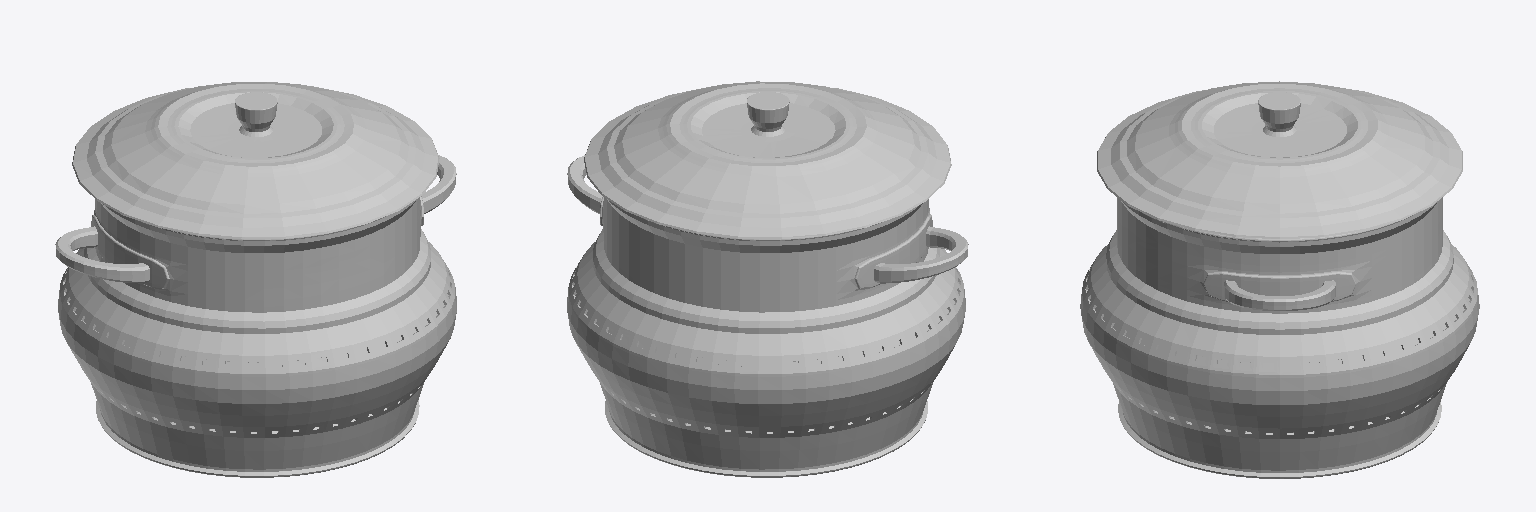
File: Pot.obj
3 renders of one model, left to right at view 1: azimuth 30°, elevation 25°; view 2: azimuth 150°, elevation 25°; view 3: azimuth 270°, elevation 25°, orthographic.
Visible parts, largest first — view 1: Pot_pot, Cap, handle2, handle1; view 2: Pot_pot, Cap, handle2, handle1; view 3: Pot_pot, Cap, handle1.
Part boxes in pixels (x1,y1,x2,y2): Pot_pot: (58,196,456,477); Cap: (72,82,439,238); handle2: (55,226,149,283); handle1: (422,155,456,213); Pot_pot: (567,197,965,477); Cap: (584,81,951,238); handle2: (874,226,968,283); handle1: (567,155,602,213); Pot_pot: (1080,197,1479,478); Cap: (1097,81,1462,238); handle1: (1224,280,1335,310).
Size of the model in its own units: 26.32 by 20.17 by 23.55.